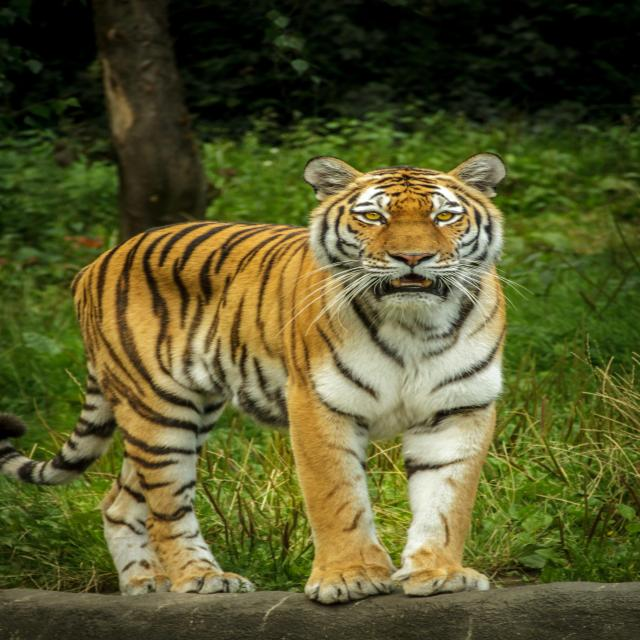Tiger: (1, 156, 518, 603)
